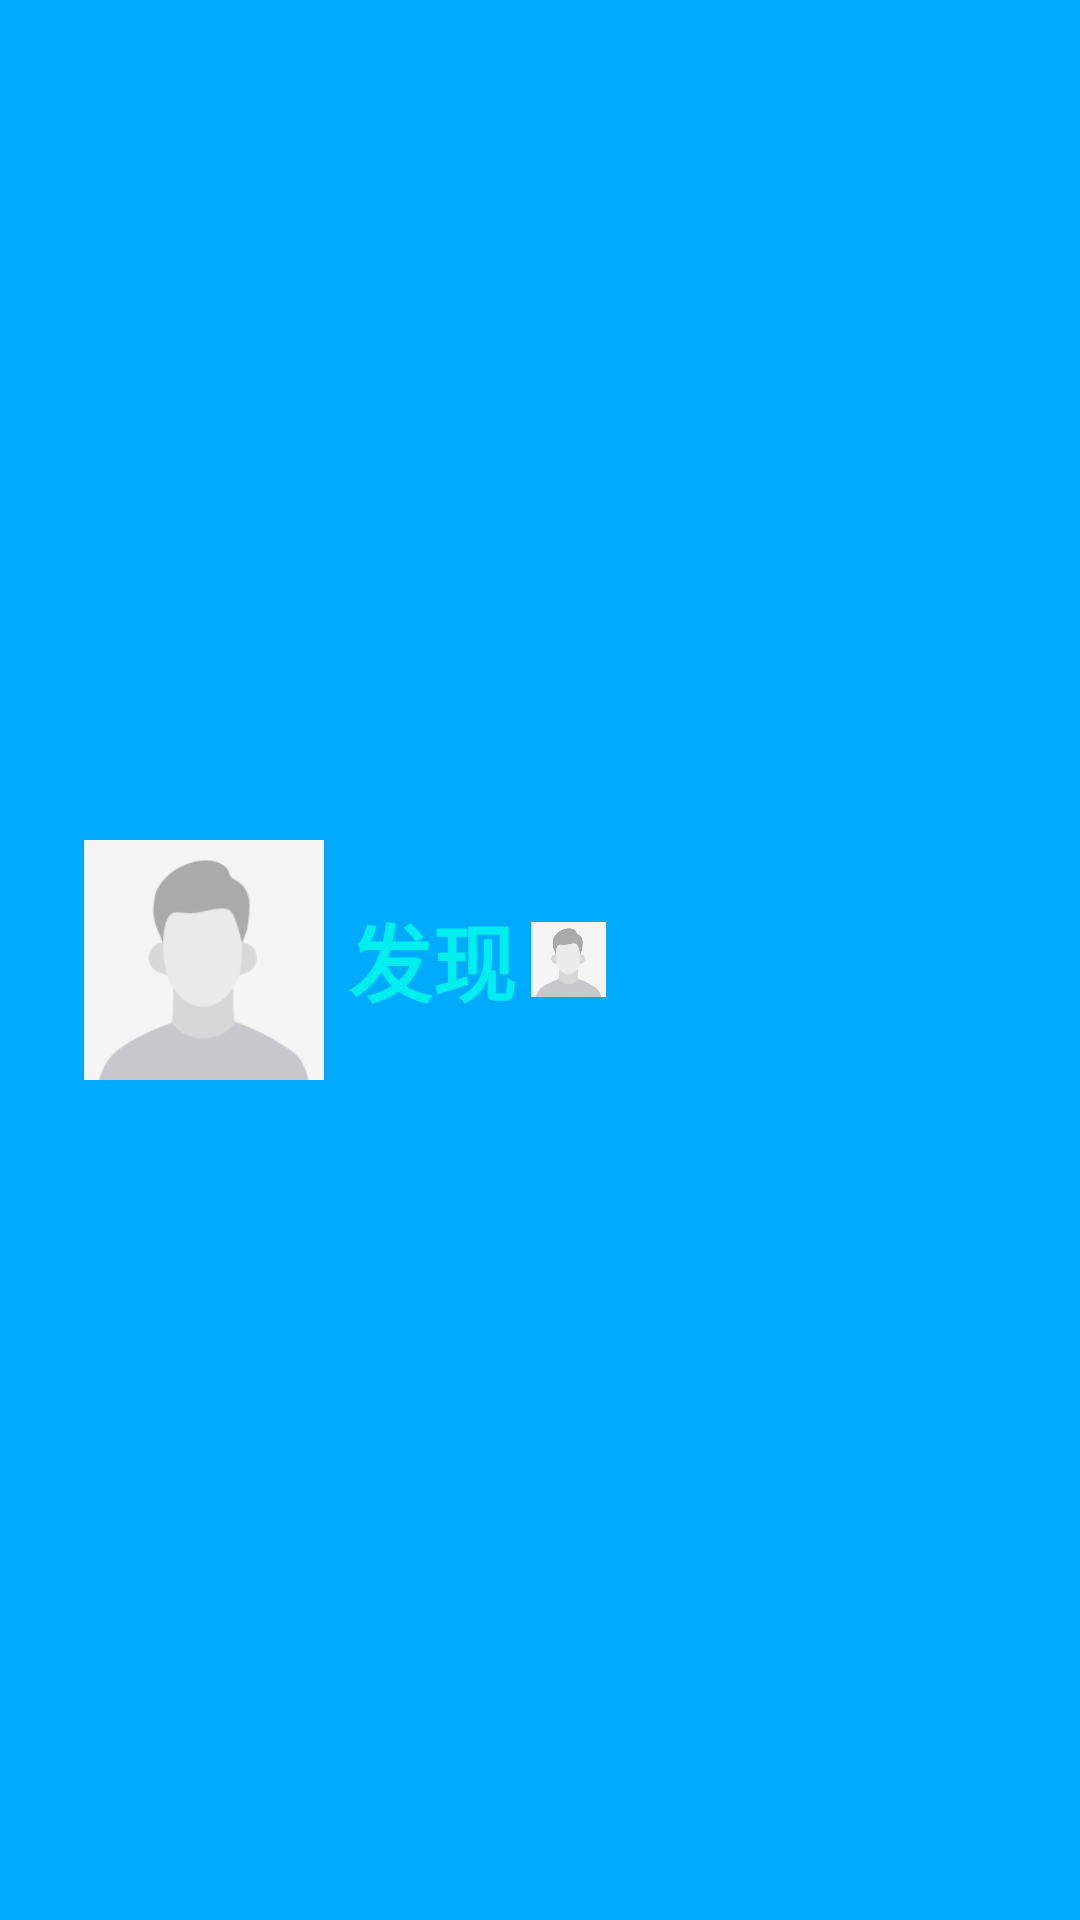

Icons on this 1080×1920 Android screen, each with its box as (x1, y1, x2, y2):
user head photo: (84, 840, 324, 1080), (531, 922, 606, 997)
